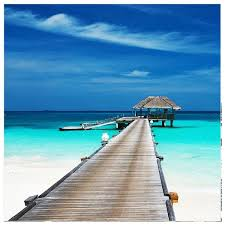beach: (5, 111, 220, 220)
sky: (5, 4, 219, 111)
